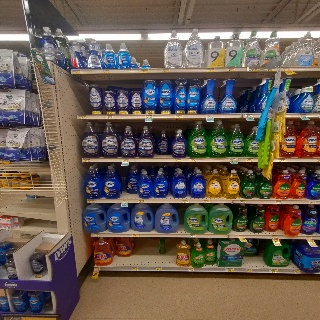All PRICE TAGS: (226, 67, 235, 71), (141, 69, 149, 73), (102, 69, 110, 73), (78, 115, 86, 119), (106, 115, 114, 119), (122, 158, 130, 162), (174, 158, 181, 162), (145, 115, 152, 119), (91, 233, 100, 236), (162, 70, 170, 73), (73, 70, 81, 73), (207, 68, 215, 71), (175, 115, 183, 118), (206, 115, 214, 118), (229, 158, 237, 161), (181, 199, 189, 202), (131, 233, 139, 236), (155, 267, 163, 270), (189, 234, 196, 237), (132, 267, 139, 270), (187, 268, 194, 271)
